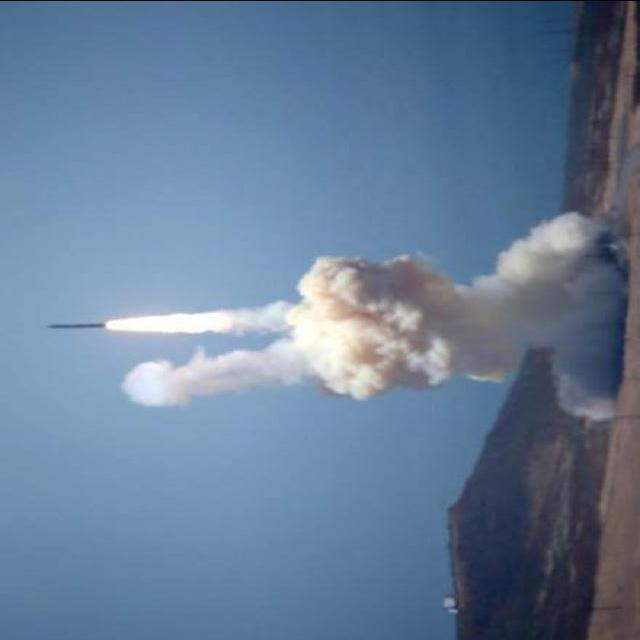Missile: (42, 318, 111, 333)
